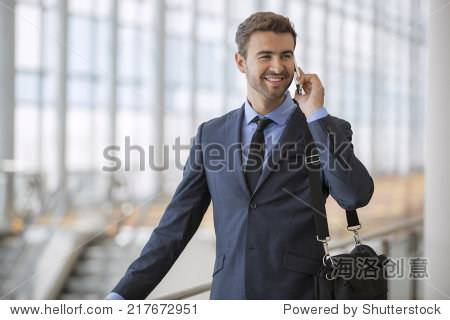phone: (290, 64, 306, 95)
talk: (253, 44, 326, 115)
